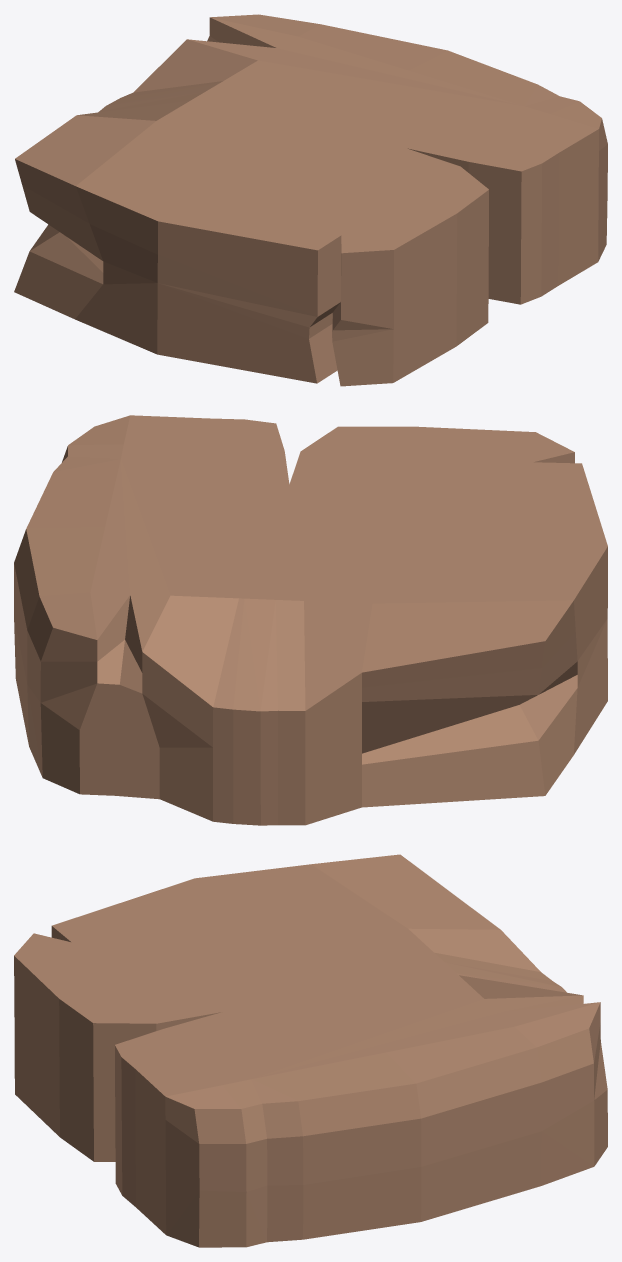
3 renders of one model, top to bottom at view 1: azimuth 30°, elevation 25°; view 2: azimuth 150°, elevation 25°; view 3: azimuth 270°, elevation 25°, orthographic. The views are drawn at different scales.
Visible parts, largest first — view 1: Cube.009; view 2: Cube.009; view 3: Cube.009.
Boxes of the visible parts, x1,y1,x2,y2 form: Cube.009: (14, 14, 607, 386); Cube.009: (14, 415, 607, 825); Cube.009: (14, 854, 607, 1247).
Size of the model in its own units: 102 by 28.28 by 102.
